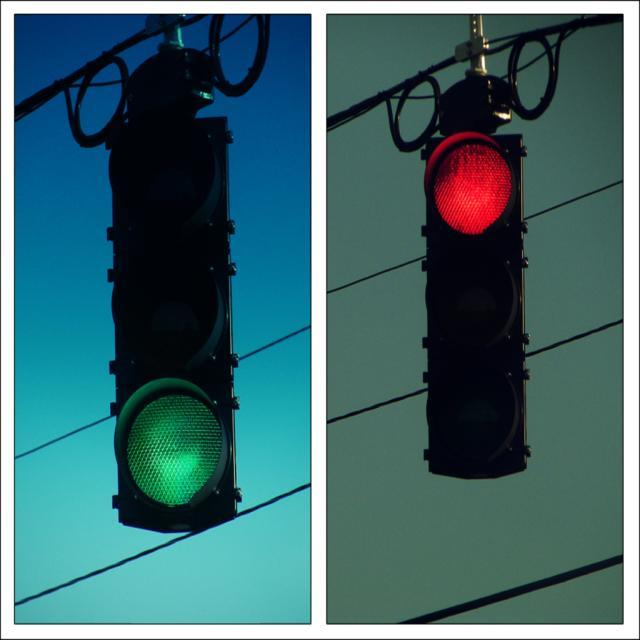traffic light: (105, 16, 242, 533), (420, 16, 532, 481)
